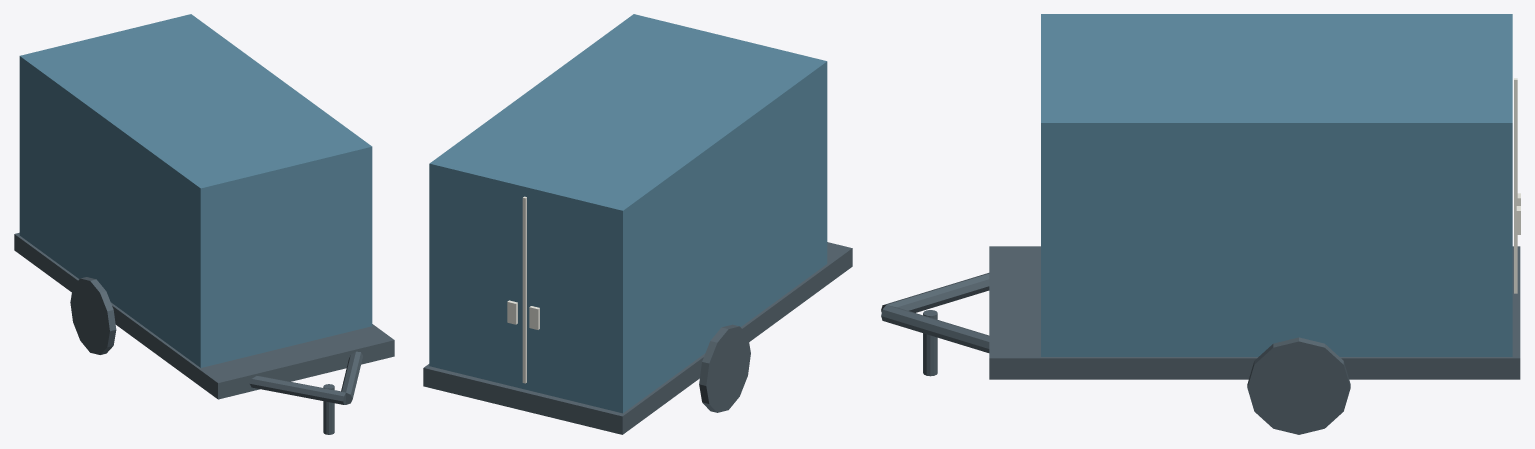
File: american-football-stadium-kit-equipment-trailer-8b49f533__22390.glb
The picture shows the model from 3 angles, left to right: view 1: azimuth 30°, elevation 25°; view 2: azimuth 150°, elevation 25°; view 3: azimuth 270°, elevation 25°; orthographic projection. The views are drawn at different scales.
Parts seen in each view (by area): view 1: equipment-trailer, wheel--0.96--0.3; view 2: equipment-trailer, wheel--0.96--0.3; view 3: equipment-trailer, wheel-0.96--0.3.
Part boxes in pixels (<box>): equipment-trailer: <box>14,14,394,434</box>; wheel--0.96--0.3: <box>70,277,116,354</box>; equipment-trailer: <box>423,14,852,434</box>; wheel--0.96--0.3: <box>699,324,750,412</box>; equipment-trailer: <box>881,14,1520,379</box>; wheel-0.96--0.3: <box>1247,337,1350,434</box>.
Bounding box in the file's own units: 1.99 × 2.28 × 4.34.
